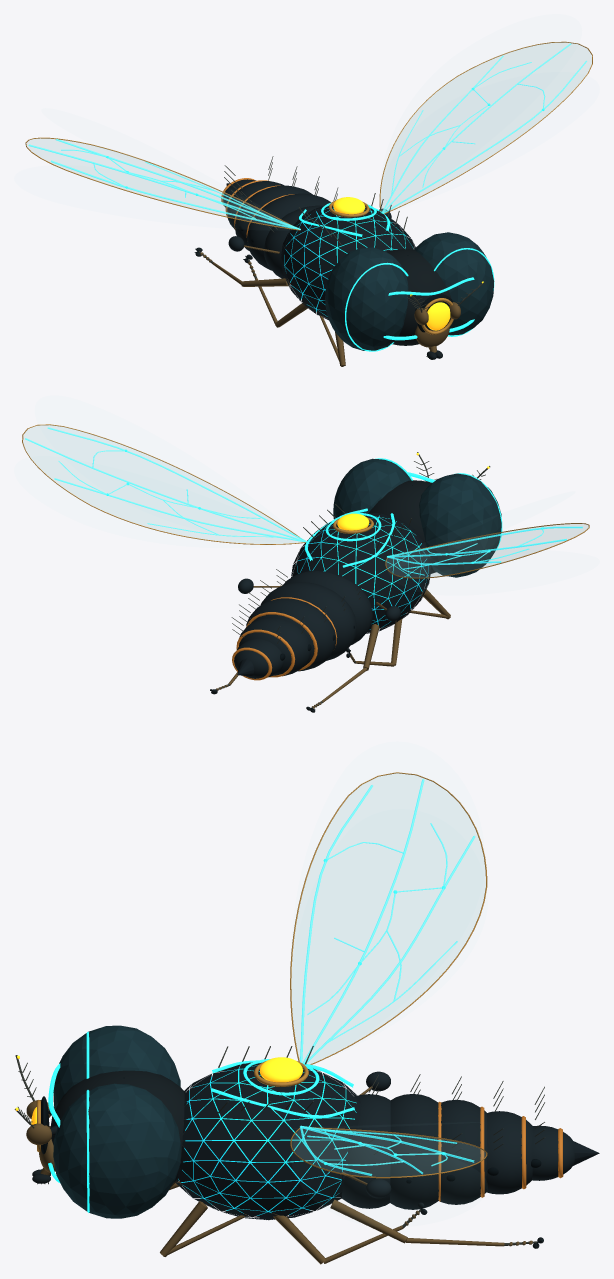
The model's file is mirror-gap-v4.4.0.glb.
3 views of the same model, one above another, from view 1: azimuth 30°, elevation 25°; view 2: azimuth 150°, elevation 25°; view 3: azimuth 270°, elevation 25° (orthographic). The views are drawn at different scales.
Parts seen in each view (by area): view 1: Thin_wing_membrane (×2), Separate_head_Left_compound_eye_batch, Faceted_obsidian_thorax, Horizontal_segmented_abdomen_Abdominal_segment_1_batch, Left_single_membrane_wing_Cyan_neural_wing_vein_1_batch, Head_capsule, Right_single_membrane_wing_Cyan_neural_wing_vein_1_batch, Costal_wing_gold_edge (×2), Thorax_inner_cyan_fissures, Separate_head_Cyan_compound_eye_rim_batch, Facial_amber_core, Thorax_pitch_and_bank_Dorsal_core_cyan_fissure_batch; view 2: Thin_wing_membrane (×2), Horizontal_segmented_abdomen_Abdominal_segment_1_batch, Separate_head_Left_compound_eye_batch, Faceted_obsidian_thorax, Right_single_membrane_wing_Cyan_neural_wing_vein_1_batch, Head_capsule, Thorax_inner_cyan_fissures, Costal_wing_gold_edge (×2), Left_single_membrane_wing_Cyan_neural_wing_vein_1_batch, Horizontal_segmented_abdomen_Amber_tergite_seam_1_batch, Thorax_pitch_and_bank_Dorsal_core_cyan_fissure_batch, Dorsal_amber_core; view 3: Thin_wing_membrane (×2), Faceted_obsidian_thorax, Separate_head_Left_compound_eye_batch, Horizontal_segmented_abdomen_Abdominal_segment_1_batch, Thorax_inner_cyan_fissures, Left_single_membrane_wing_Cyan_neural_wing_vein_1_batch, Head_capsule, Costal_wing_gold_edge (×2), Right_single_membrane_wing_Cyan_neural_wing_vein_1_batch, Horizontal_segmented_abdomen_Amber_tergite_seam_1_batch, Thorax_pitch_and_bank_Dorsal_core_cyan_fissure_batch, Separate_head_Cyan_compound_eye_rim_batch (+2 smaller).
Part boxes in pixels (<box>): Thin_wing_membrane (×2): <box>26,43,591,227</box>; Separate_head_Left_compound_eye_batch: <box>325,232,494,350</box>; Faceted_obsidian_thorax: <box>281,206,415,320</box>; Horizontal_segmented_abdomen_Abdominal_segment_1_batch: <box>223,179,330,278</box>; Left_single_membrane_wing_Cyan_neural_wing_vein_1_batch: <box>28,138,300,230</box>; Head_capsule: <box>386,249,451,345</box>; Right_single_membrane_wing_Cyan_neural_wing_vein_1_batch: <box>382,43,586,213</box>; Costal_wing_gold_edge (×2): <box>25,41,592,230</box>; Thorax_inner_cyan_fissures: <box>284,207,412,316</box>; Separate_head_Cyan_compound_eye_rim_batch: <box>345,248,494,351</box>; Facial_amber_core: <box>426,302,450,330</box>; Thorax_pitch_and_bank_Dorsal_core_cyan_fissure_batch: <box>299,202,390,237</box>; Thin_wing_membrane (×2): <box>23,425,588,577</box>; Horizontal_segmented_abdomen_Abdominal_segment_1_batch: <box>234,571,372,678</box>; Separate_head_Left_compound_eye_batch: <box>333,458,501,577</box>; Faceted_obsidian_thorax: <box>291,513,431,633</box>; Right_single_membrane_wing_Cyan_neural_wing_vein_1_batch: <box>25,427,306,542</box>; Head_capsule: <box>369,480,436,574</box>; Thorax_inner_cyan_fissures: <box>296,515,428,629</box>; Costal_wing_gold_edge (×2): <box>22,424,589,578</box>; Left_single_membrane_wing_Cyan_neural_wing_vein_1_batch: <box>387,526,582,575</box>; Horizontal_segmented_abdomen_Amber_tergite_seam_1_batch: <box>232,597,337,680</box>; Thorax_pitch_and_bank_Dorsal_core_cyan_fissure_batch: <box>304,508,394,567</box>; Dorsal_amber_core: <box>337,513,369,530</box>; Thin_wing_membrane (×2): <box>292,774,485,1176</box>; Faceted_obsidian_thorax: <box>175,1062,361,1220</box>; Separate_head_Left_compound_eye_batch: <box>53,1025,180,1218</box>; Horizontal_segmented_abdomen_Abdominal_segment_1_batch: <box>340,1094,574,1209</box>; Thorax_inner_cyan_fissures: <box>178,1065,356,1215</box>; Left_single_membrane_wing_Cyan_neural_wing_vein_1_batch: <box>300,779,475,1063</box>; Head_capsule: <box>51,1070,186,1182</box>; Costal_wing_gold_edge (×2): <box>290,772,487,1178</box>; Right_single_membrane_wing_Cyan_neural_wing_vein_1_batch: <box>300,1125,474,1175</box>; Horizontal_segmented_abdomen_Amber_tergite_seam_1_batch: <box>438,1101,563,1201</box>; Thorax_pitch_and_bank_Dorsal_core_cyan_fissure_batch: <box>211,1059,354,1118</box>; Separate_head_Cyan_compound_eye_rim_batch: <box>48,1031,89,1212</box>.
Size of the model in its own units: 2.24 by 0.9096 by 1.48.
